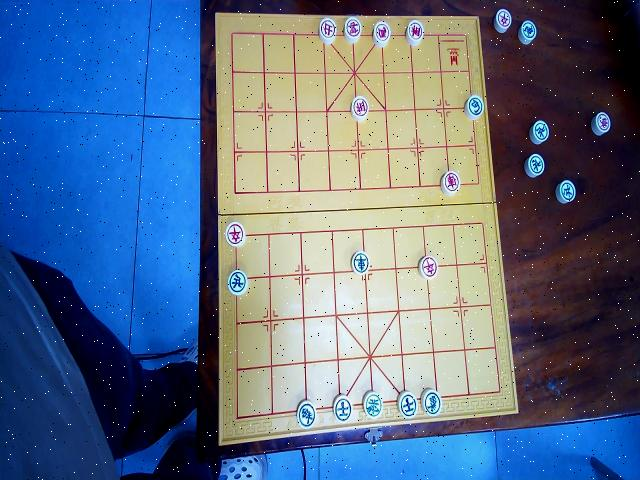piece: (421, 388, 442, 418), (398, 391, 418, 419), (228, 268, 248, 296), (296, 400, 316, 428), (364, 392, 384, 420), (226, 221, 247, 247), (333, 394, 352, 422), (556, 179, 576, 205), (419, 254, 439, 280), (442, 170, 462, 196), (530, 120, 550, 146), (525, 152, 545, 178), (592, 110, 612, 136), (319, 16, 337, 44), (373, 20, 391, 48), (465, 95, 485, 120), (352, 250, 371, 276), (493, 8, 512, 34), (406, 19, 424, 46), (519, 19, 537, 46), (344, 17, 362, 43), (351, 95, 369, 121)
